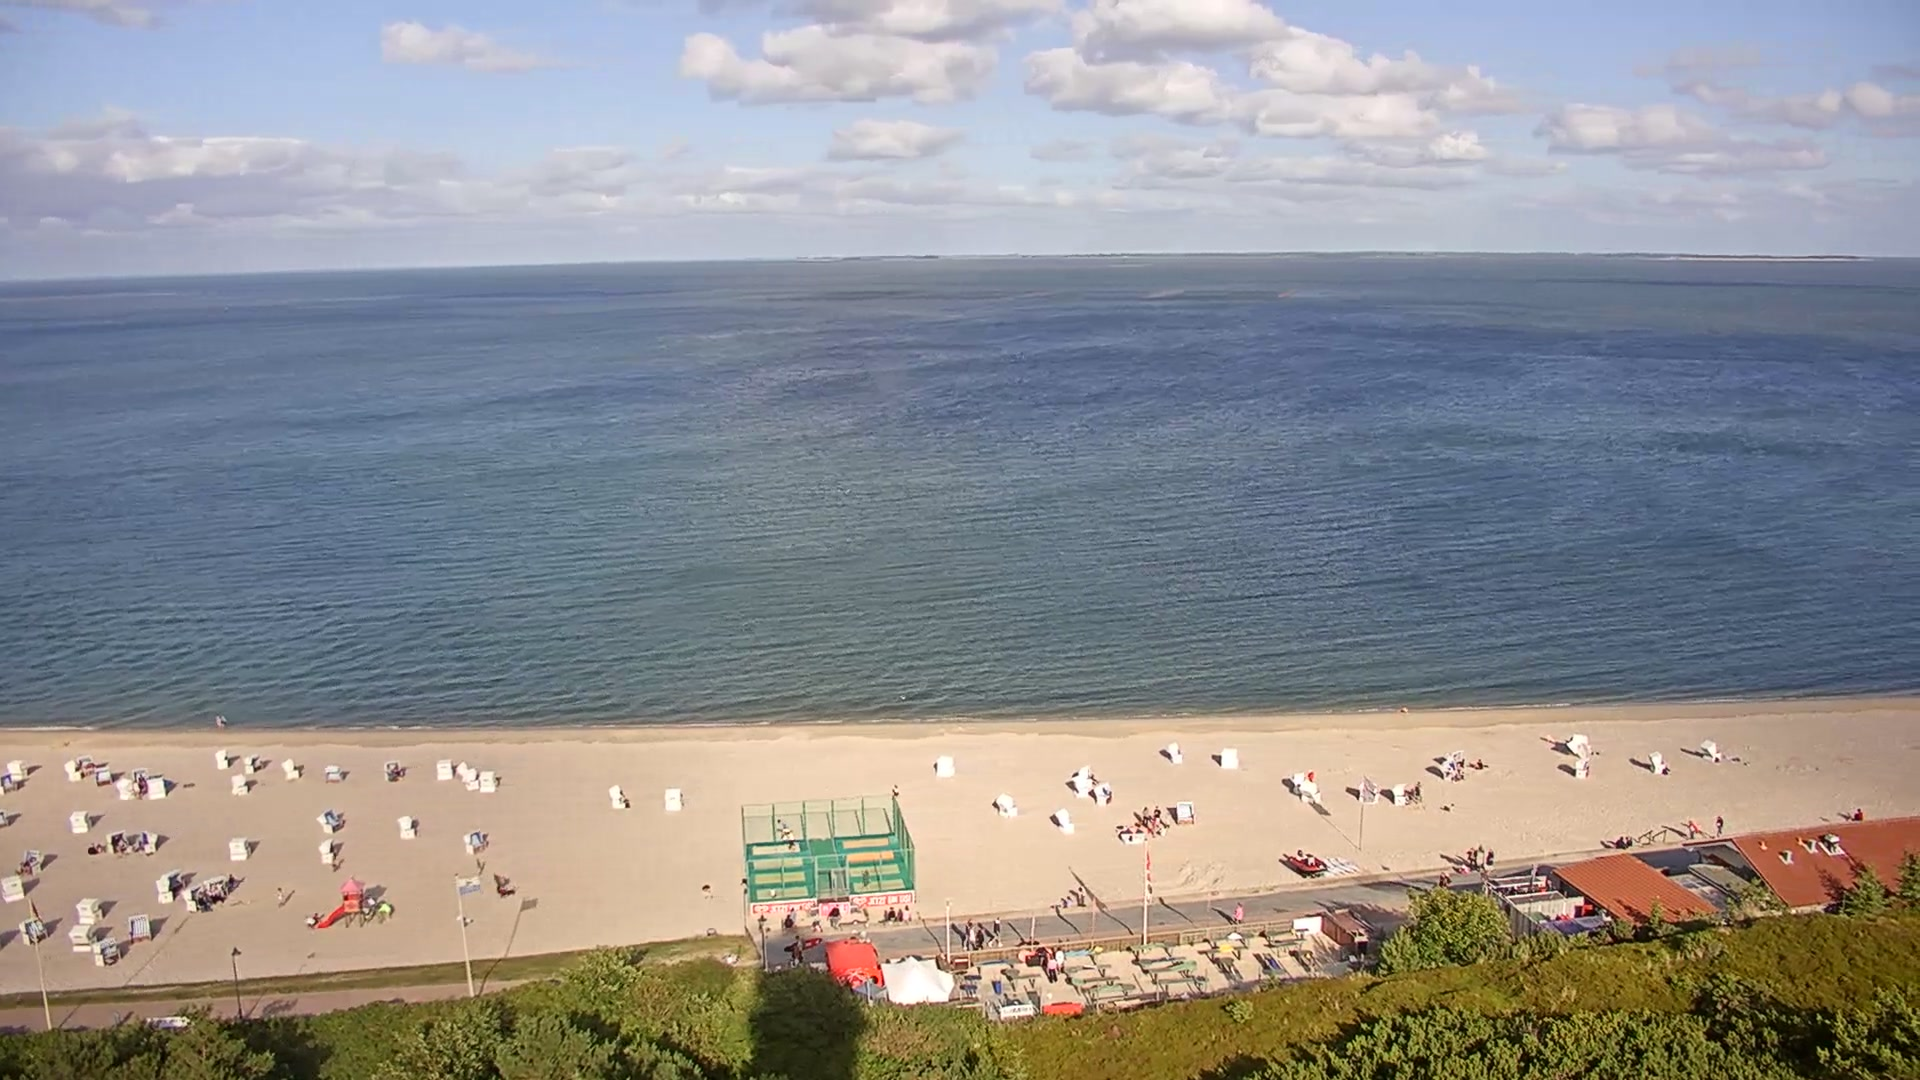human: (988, 916, 1004, 947), (827, 902, 842, 928), (1045, 953, 1057, 983), (964, 917, 975, 950), (1052, 945, 1064, 974), (781, 827, 794, 851), (975, 921, 985, 950), (963, 918, 972, 950), (114, 832, 126, 853), (794, 934, 804, 960), (811, 910, 823, 932), (1475, 843, 1485, 870), (861, 868, 871, 891), (1233, 900, 1244, 923), (197, 889, 207, 911), (617, 787, 629, 807), (215, 712, 228, 729), (1142, 805, 1152, 826), (790, 941, 799, 965), (1485, 848, 1494, 872), (1466, 845, 1476, 869), (1688, 818, 1698, 838), (138, 771, 148, 794), (1153, 804, 1162, 827), (1439, 870, 1450, 888), (215, 879, 224, 901), (1715, 814, 1724, 837), (903, 903, 912, 923), (275, 885, 284, 907), (1852, 807, 1863, 821), (783, 913, 793, 931), (1414, 780, 1422, 802), (789, 905, 797, 924), (1077, 885, 1085, 905), (310, 911, 320, 926), (1615, 835, 1626, 848), (227, 872, 235, 889), (887, 905, 896, 922), (896, 905, 903, 922), (890, 783, 899, 798), (1473, 758, 1484, 770), (1307, 768, 1315, 783), (882, 908, 890, 923), (776, 817, 785, 829), (1059, 896, 1067, 907), (1065, 895, 1073, 907), (1625, 836, 1632, 846)
sea: (1281, 847, 1326, 878)
